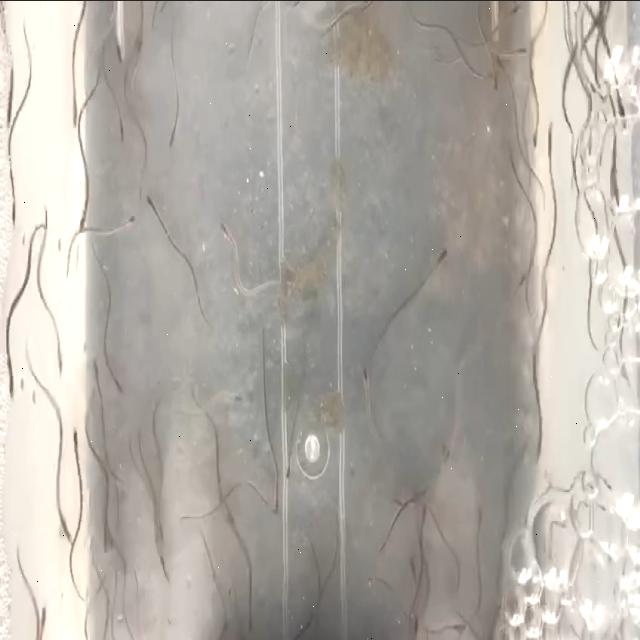active_glass_eel: (214, 191, 242, 241), (230, 378, 256, 423), (353, 362, 378, 398), (282, 447, 294, 520), (54, 345, 78, 381), (616, 84, 636, 126), (78, 198, 96, 243), (610, 148, 622, 214), (167, 120, 184, 162), (114, 104, 130, 147), (98, 515, 115, 555), (128, 192, 140, 248), (536, 408, 546, 474), (71, 112, 89, 148), (403, 558, 419, 597), (222, 496, 236, 540), (61, 510, 77, 548), (87, 356, 107, 386), (109, 378, 127, 410), (415, 494, 427, 540), (154, 511, 170, 545), (156, 558, 173, 588), (6, 362, 21, 396), (528, 111, 540, 151), (270, 475, 286, 505), (4, 91, 16, 129), (432, 242, 448, 268), (566, 18, 578, 52), (473, 499, 488, 526), (493, 39, 507, 67), (8, 202, 23, 228), (440, 436, 452, 468), (70, 422, 84, 449), (136, 37, 148, 65), (480, 64, 492, 91), (412, 608, 422, 640), (546, 118, 556, 148), (115, 42, 122, 84), (492, 76, 506, 96), (268, 504, 278, 532), (145, 189, 157, 212), (520, 36, 528, 66), (512, 1, 522, 22), (580, 32, 588, 54), (38, 601, 46, 621)
